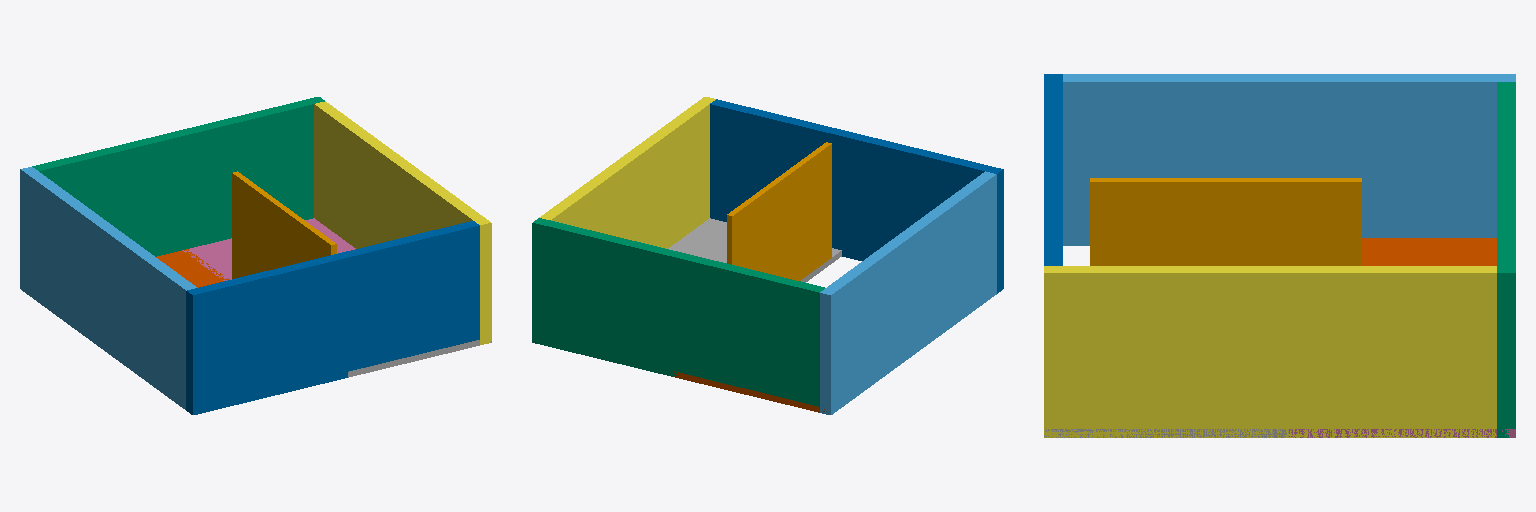
robot.urdf — room:
<?xml version='1.0'?>
<robot name="room">

    <link name="odom">
    </link>

    <material name="white">
        <color rgba="1 1 1 1"/>
    </material>

    <!-- Define the wall -->
    <link name='wall1'>
        <!-- Visual representation -->
        <visual name='visual'>
            <geometry>
                <!-- Wall size: Length=10m, Width=0.2m, Height=2m -->
                <box size="0.2 5 2"/>
            </geometry>
            <!-- Position the wall at the center of the specified corners -->
            <origin xyz="-2.6 0 1" rpy="0 0 0"/>
        </visual>

        <!-- Collision representation -->   
        <collision name='collision'>
            <geometry>
                <!-- Same dimensions as visual -->
                <box size="0.2 5 2"/>
            </geometry>
            <!-- Same position as visual -->
            <origin xyz="-2.6 0 1" rpy="0 0 0"/>
        </collision>
        
        <!-- Apply the material -->
        <material name="white"/>
    </link>

    <link name='wall2'>
        <visual name='visual'>
            <geometry>
                <box size="0.2 5 2"/>
            </geometry>
            <origin xyz="0 2.4 1" rpy="0 0 1.5708"/>
        </visual>
        <collision name='collision'>
            <geometry>
                <box size="0.2 5 2"/>
            </geometry>
            <origin xyz="0 2.4 1" rpy="0 0 1.5708"/>
        </collision>
        <material name="white"/> 
    </link> 

    <link name='wall3'>
        <visual name='visual'>
            <geometry>
                <box size="0.2 5 2"/>
            </geometry>
            <origin xyz="2.4 -0.2 1" rpy="0 0 0"/>
        </visual>
        <collision name='collision'>
            <geometry>
                <box size="0.2 5 2"/>
            </geometry>
            <origin xyz="2.4 -0.2 1" rpy="0 0 0"/>
        </collision>
        <material name="white"/> 
    </link>  

    <link name='wall4'>
        <visual name='visual'>
            <geometry>
                <box size="0.2 5 2"/>
            </geometry>
            <origin xyz="-0.2 -2.6 1" rpy="0 0 1.5708"/>
        </visual>
        <collision name='collision'>
            <geometry>
                <box size="0.2 5 2"/>
            </geometry>
            <origin xyz="-0.2 -2.6 1" rpy="0 0 1.5708"/>
        </collision>
        <material name="white"/> 
    </link> 

    <link name='ground1'>
        <visual name='visual'>
            <geometry>
                <box size="2.7 2.5 0.1"/>
            </geometry>
            <origin xyz="-1.25 1.25 0.05" rpy="0 0 0"/>
        </visual>
        <collision name='collision'>
            <geometry>
                <box size="2.7 2.5 0.1"/>
            </geometry>
            <origin xyz="-1.25 1.25 0.05" rpy="0 0 0"/>
        </collision>
        <material name="white"/> 
    </link> 

    <link name='ground2'>
        <visual name='visual'>
            <geometry>
                <box size="2.5 2.5 0.1"/>
            </geometry>
            <origin xyz="1.25 1.25 0.05" rpy="0 0 0"/>
        </visual>
        <collision name='collision'>
            <geometry>
                <box size="2.5 2.5 0.1"/>
            </geometry>
            <origin xyz="1.25 1.25 0.05" rpy="0 0 0"/>
        </collision>
        <material name="white"/> 
    </link> 

    <link name='ground3'>
        <visual name='visual'>
            <geometry>
                <box size="2.5 2.7 0.1"/>
            </geometry>
            <origin xyz="1.25 -1.35 0.05" rpy="0 0 0"/>
        </visual>
        <collision name='collision'>
            <geometry>
                <box size="2.5 2.7 0.1"/>
            </geometry>
            <origin xyz="1.25 -1.35 0.05" rpy="0 0 0"/>
        </collision>
        <material name="white"/> 
    </link> 

    <link name='wall5'>
        <visual name='visual'>
            <geometry>
                <box size="3 0.1 2"/>
            </geometry>
            <origin xyz="0.05 -0.7 1" rpy="0 0 1.5708"/>
        </visual>
        <collision name='collision'>
            <geometry>
                <box size="3 0.1 2"/>
            </geometry>
            <origin xyz="0.05 -0.7 1" rpy="0 0 1.5708"/>
        </collision>
        <material name="white"/> 
    </link> 

    <joint name="wall1" type="fixed">
		<parent link="odom"/>
 	    <child link="wall1"/>
    </joint>
    
    <joint name="wall2" type="fixed">
        <parent link="odom"/>       
        <child link="wall2"/>
    </joint>

    <joint name="wall3" type="fixed">
        <parent link="odom"/>       
        <child link="wall3"/>
    </joint>

    <joint name="wall4" type="fixed">
        <parent link="odom"/>       
        <child link="wall4"/>
    </joint>

    <joint name="ground1" type="fixed">
        <parent link="odom"/>       
        <child link="ground1"/>
    </joint>

    <joint name="ground2" type="fixed">
        <parent link="odom"/>       
        <child link="ground2"/>
    </joint>

    <joint name="ground3" type="fixed">
        <parent link="odom"/>       
        <child link="ground3"/>
    </joint>

    <joint name="wall5" type="fixed">
        <parent link="odom"/>       
        <child link="wall5"/>
    </joint>


</robot>

--- Render facts (derived) ---
Views: 3 orthographic renders of the robot side by side, from view 1: azimuth 30°, elevation 25°; view 2: azimuth 150°, elevation 25°; view 3: azimuth 270°, elevation 25°.
Robot: room — 9 links, 8 joints (8 fixed); root link odom; default pose: all joints at 0.
Links seen in each view (by area): view 1: wall4, wall2, wall1, wall3, wall5, ground2, ground1, ground3; view 2: wall2, wall1, wall4, wall3, wall5, ground3, ground1; view 3: wall3, wall1, wall5, wall2, ground1, wall4, ground3, ground2.
Link boxes in pixels (x1=…): wall4: x1=186, y1=221, x2=479, y2=414; wall2: x1=32, y1=97, x2=324, y2=256; wall1: x1=20, y1=167, x2=196, y2=409; wall3: x1=314, y1=101, x2=491, y2=344; wall5: x1=232, y1=171, x2=336, y2=278; ground2: x1=182, y1=218, x2=355, y2=280; ground1: x1=156, y1=249, x2=229, y2=287; ground3: x1=348, y1=340, x2=491, y2=377; wall2: x1=532, y1=218, x2=824, y2=406; wall1: x1=820, y1=171, x2=996, y2=414; wall4: x1=710, y1=99, x2=1003, y2=293; wall3: x1=539, y1=97, x2=715, y2=248; wall5: x1=727, y1=142, x2=831, y2=280; ground3: x1=668, y1=218, x2=841, y2=282; ground1: x1=674, y1=371, x2=824, y2=412; wall3: x1=1044, y1=266, x2=1496, y2=437; wall1: x1=1063, y1=74, x2=1515, y2=245; wall5: x1=1090, y1=178, x2=1361, y2=265; wall2: x1=1497, y1=82, x2=1515, y2=437; ground1: x1=1362, y1=238, x2=1496, y2=265; wall4: x1=1044, y1=74, x2=1062, y2=265; ground3: x1=1044, y1=429, x2=1288, y2=437; ground2: x1=1289, y1=429, x2=1515, y2=437.
Bounding box of the posed robot: 5.2 × 5.2 × 2 m (x, y, z).
Geometry: primitives only (box / cylinder / sphere), no mesh files.
